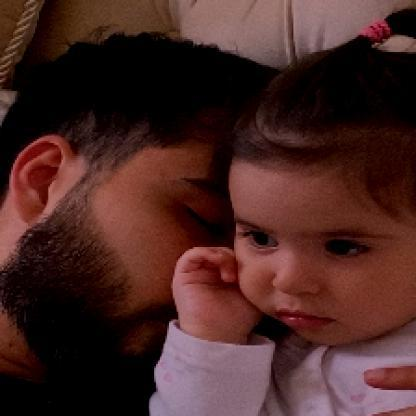child: (148, 1, 416, 415)
